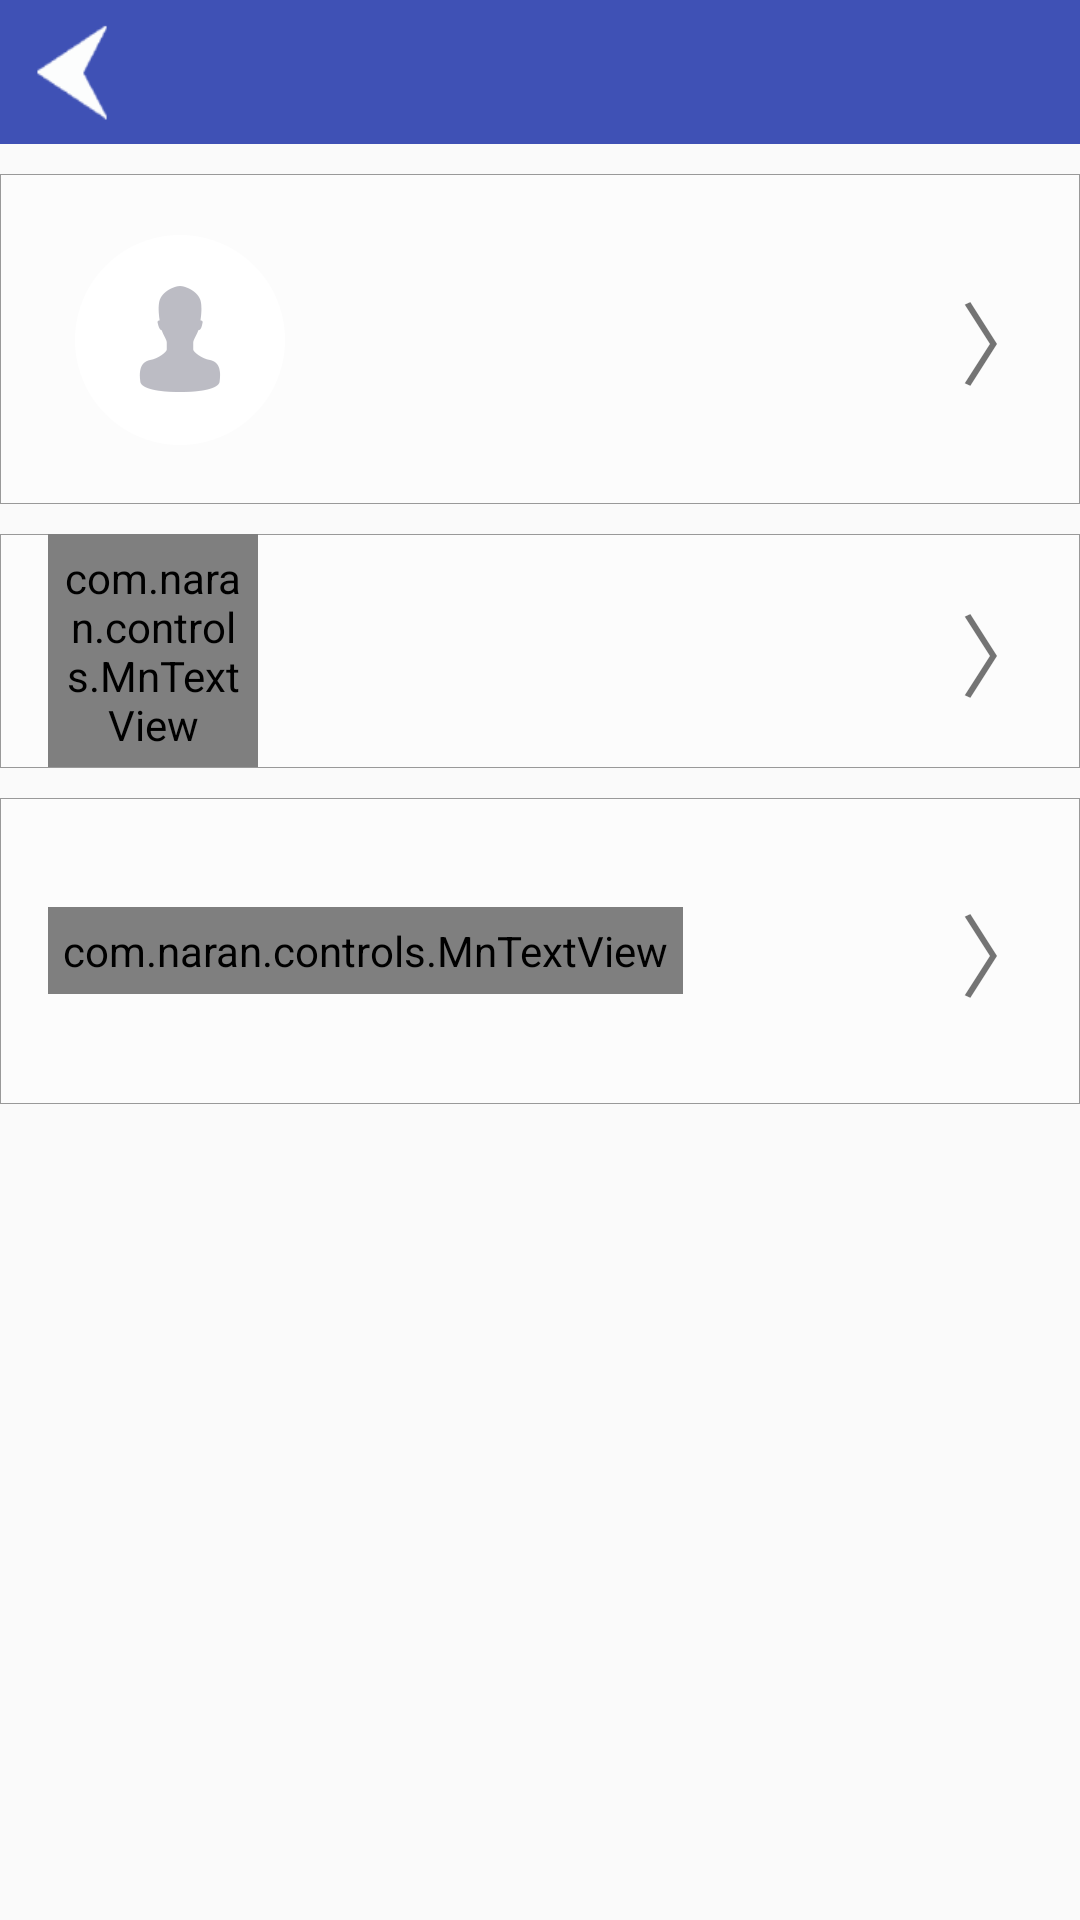

Where to tap for icons on this 1080px×1920px app screen, as (x,y):
back: (72,73)
myhead: (180,339)
